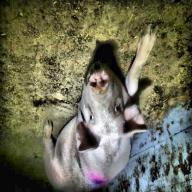boar: (43, 25, 160, 192)
